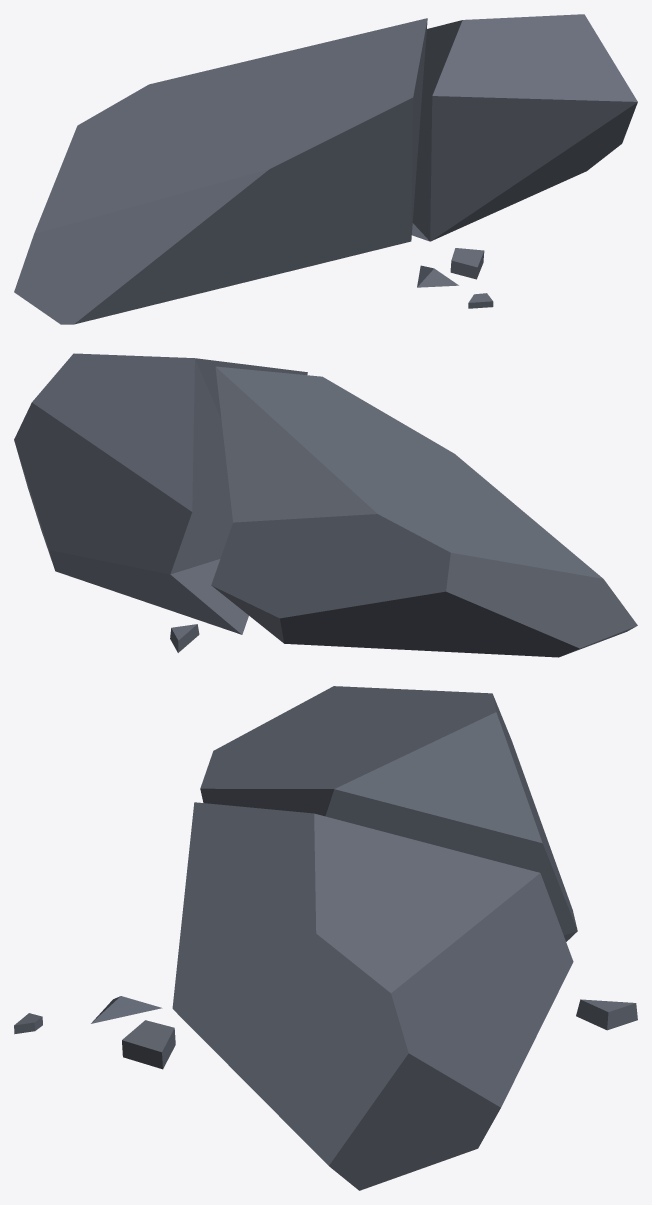
The model's file is Rock_Sharp_crk_m_03.fbx.
The picture shows the model from 3 angles, top to bottom: view 1: azimuth 30°, elevation 25°; view 2: azimuth 150°, elevation 25°; view 3: azimuth 270°, elevation 25°; orthographic projection. The views are drawn at different scales.
Visible parts, largest first — view 1: Rock_Sharp_crk_m_03; view 2: Rock_Sharp_crk_m_03; view 3: Rock_Sharp_crk_m_03.
Boxes of the visible parts, x1=… form: Rock_Sharp_crk_m_03: x1=14, y1=14, x2=637, y2=324; Rock_Sharp_crk_m_03: x1=14, y1=353, x2=637, y2=657; Rock_Sharp_crk_m_03: x1=14, y1=686, x2=637, y2=1190.
Bounding box in the file's own units: 161 × 50.28 × 99.54.
